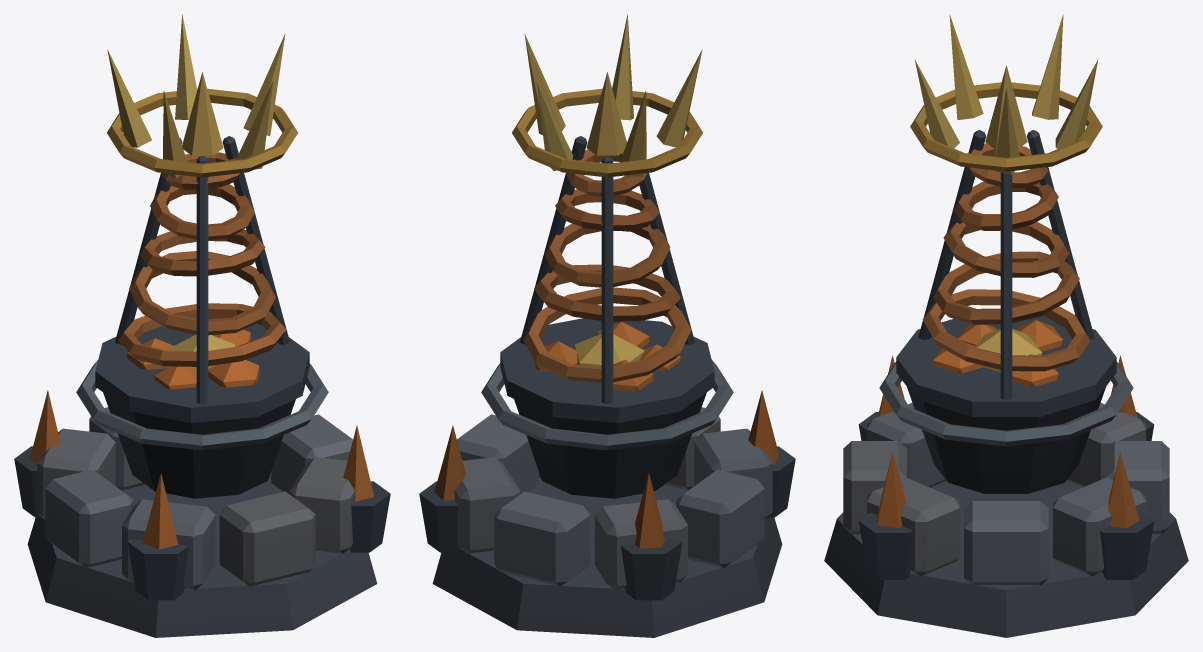
Rendered from def_embercoil.glb.
3 views of the same model, side by side, from view 1: azimuth 30°, elevation 25°; view 2: azimuth 150°, elevation 25°; view 3: azimuth 270°, elevation 25° (orthographic).
Visible parts, largest first — view 1: Base, Up2, Up3; view 2: Base, Up2, Up3; view 3: Base, Up2, Up3.
Boxes of the visible parts, x1,y1,x2,y2 form: Base: (27, 72, 377, 637); Up2: (14, 360, 390, 600); Up3: (107, 14, 297, 178); Base: (432, 72, 782, 637); Up2: (419, 360, 795, 600); Up3: (512, 14, 702, 177); Base: (824, 65, 1188, 637); Up2: (858, 355, 1154, 579); Up3: (910, 14, 1102, 174).
Bounding box in the file's own units: 1.72 × 2.68 × 1.72.
